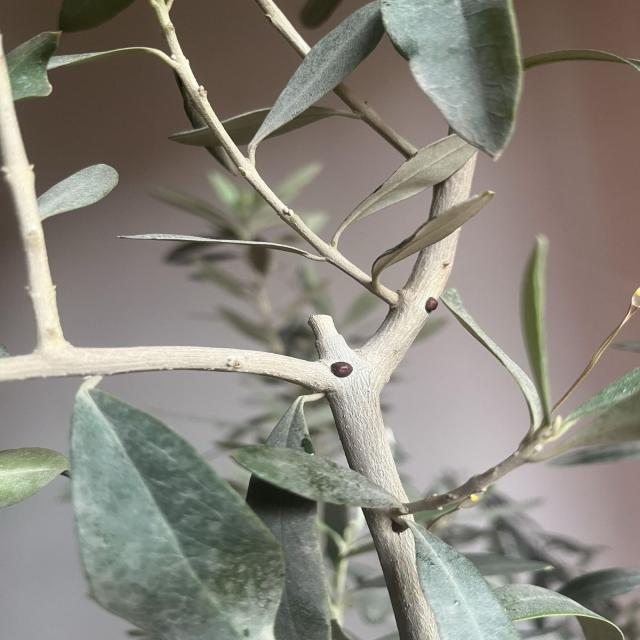Black Scale: (330, 361, 353, 378), (425, 297, 440, 315)
Healthy: (330, 134, 477, 249), (369, 191, 493, 297)
